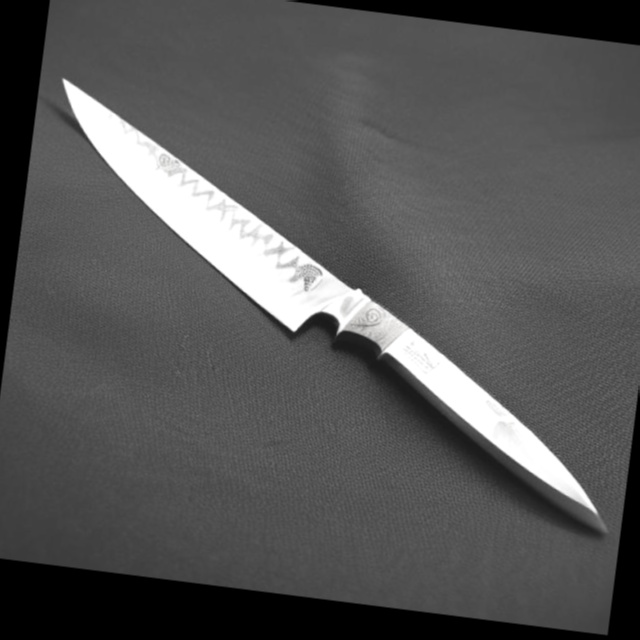Sharp-Object: (3, 63, 640, 554)
